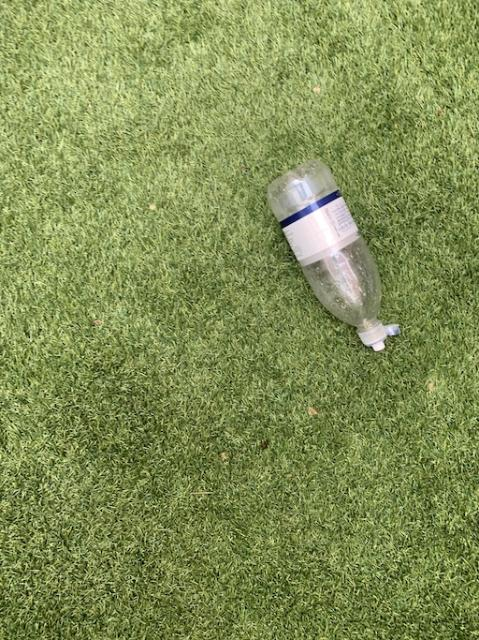plastic: (267, 159, 398, 350)
